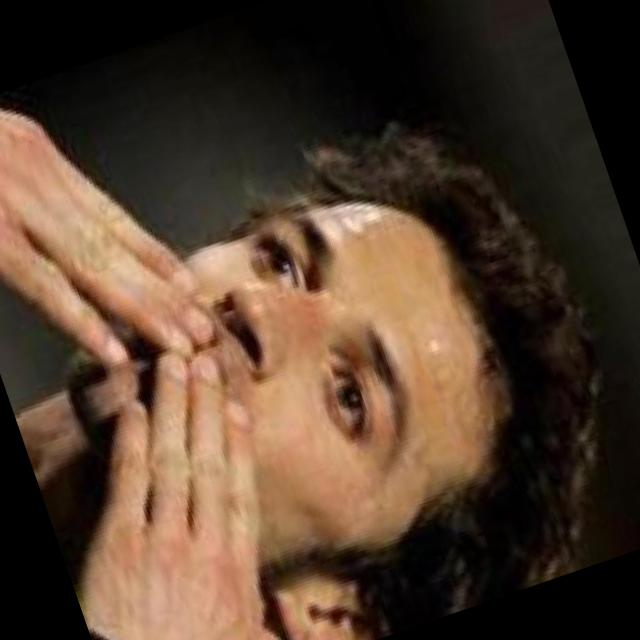bareface: (49, 157, 624, 640)
